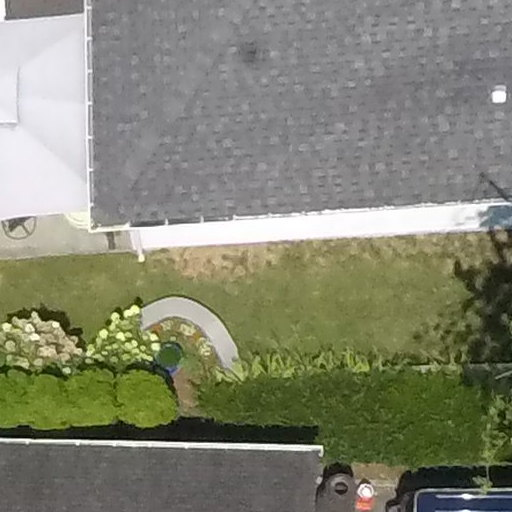container: (151, 334, 189, 380), (327, 473, 355, 502), (357, 478, 380, 510)
